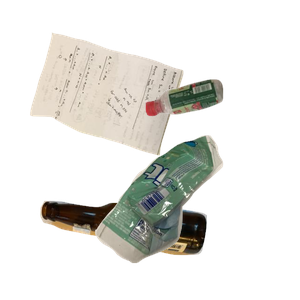glass: (37, 198, 236, 300)
paper: (27, 30, 203, 178)
plastic: (142, 77, 300, 186)
trash: (92, 133, 300, 300)
